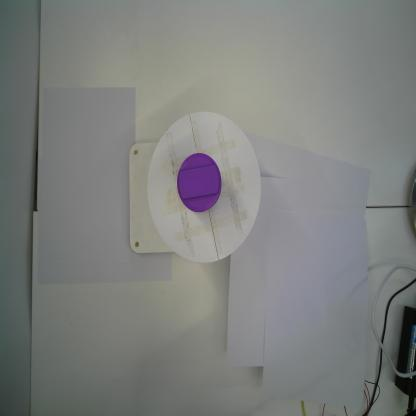Canned Food: (177, 151, 222, 213)
